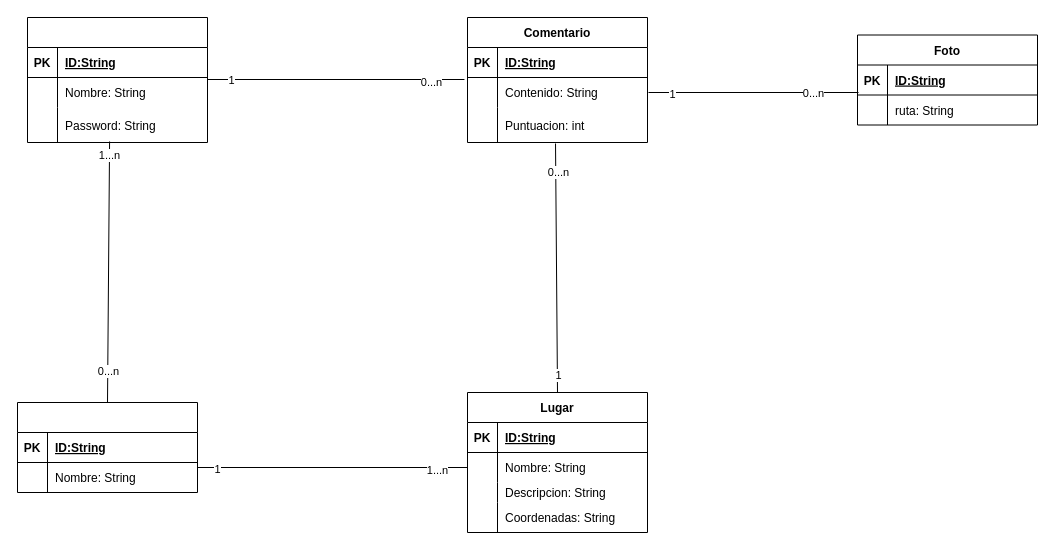
Some shapes in this 1055 by 550 pixel diagram are drawn without their labels. The box of each missing label's shape, as (x1, y1, x2, y2) in pixels:
Mapa: (16, 402, 198, 492)
Usuario: (26, 16, 208, 142)
